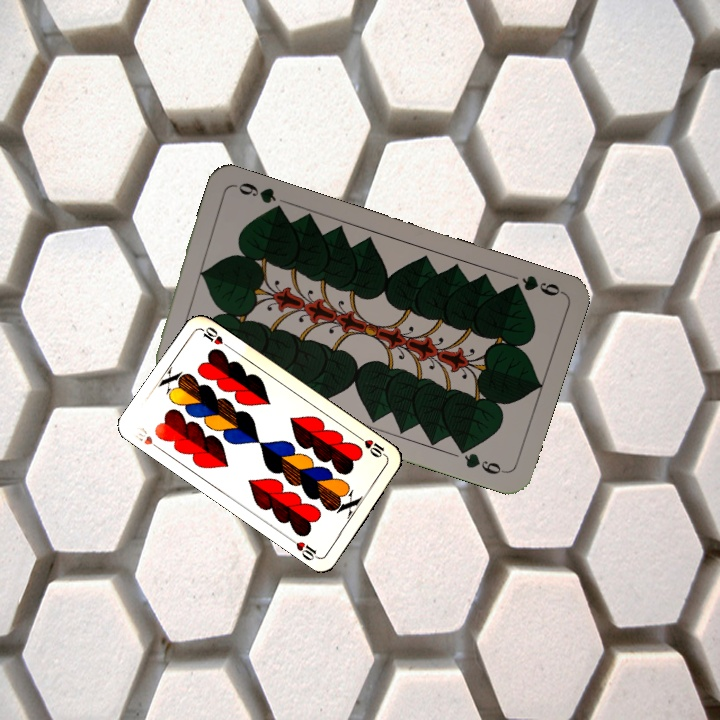G9: (504, 271, 565, 299)
H10: (129, 423, 165, 454), (354, 432, 390, 460)
